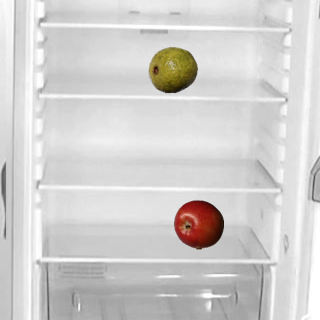Apple Braeburn: (173, 199, 223, 249)
Guava: (147, 44, 197, 94)
